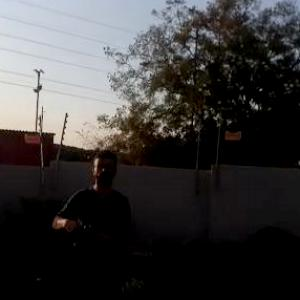follow: (46, 146, 135, 299)
